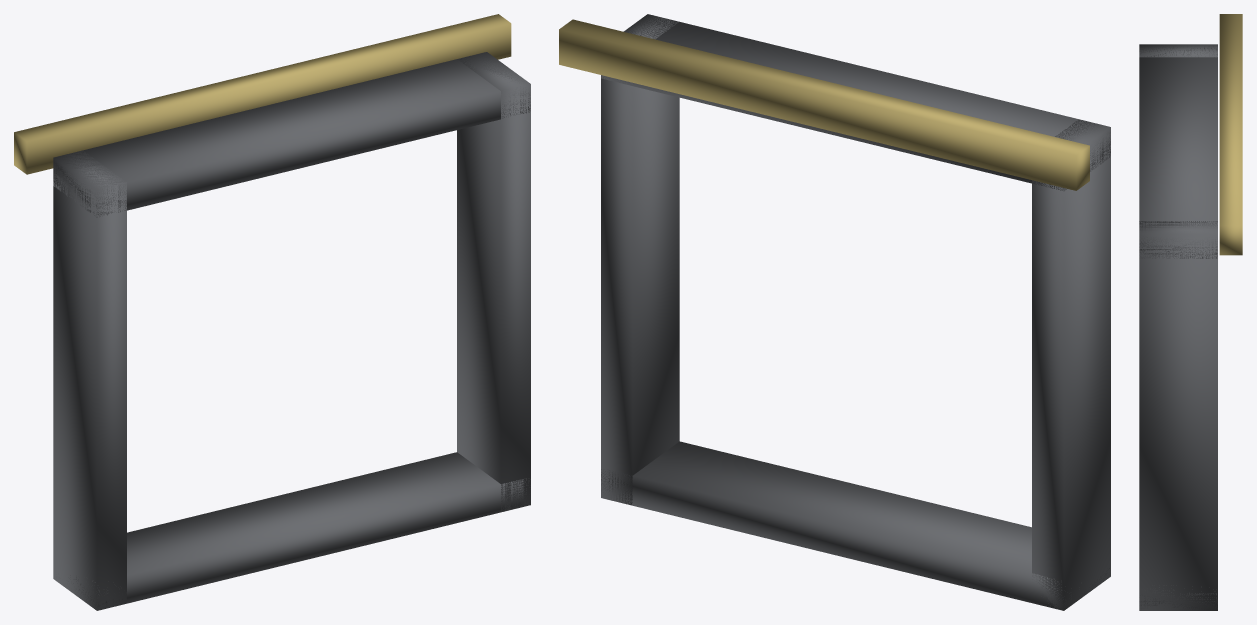
File: egress_window_motel_w118_h110_s88_d24.glb
3 views of the same model, side by side, from view 1: azimuth 30°, elevation 25°; view 2: azimuth 150°, elevation 25°; view 3: azimuth 270°, elevation 25° (orthographic). The views are drawn at different scales.
Parts seen in each view (by area): view 1: world; view 2: world; view 3: world.
Boxes of the visible parts, x1,y1,x2,y2 form: world: (14,14,530,610); world: (559,14,1110,610); world: (1139,14,1242,610).
Size of the model in its own units: 1.53 by 1.33 by 0.315.
